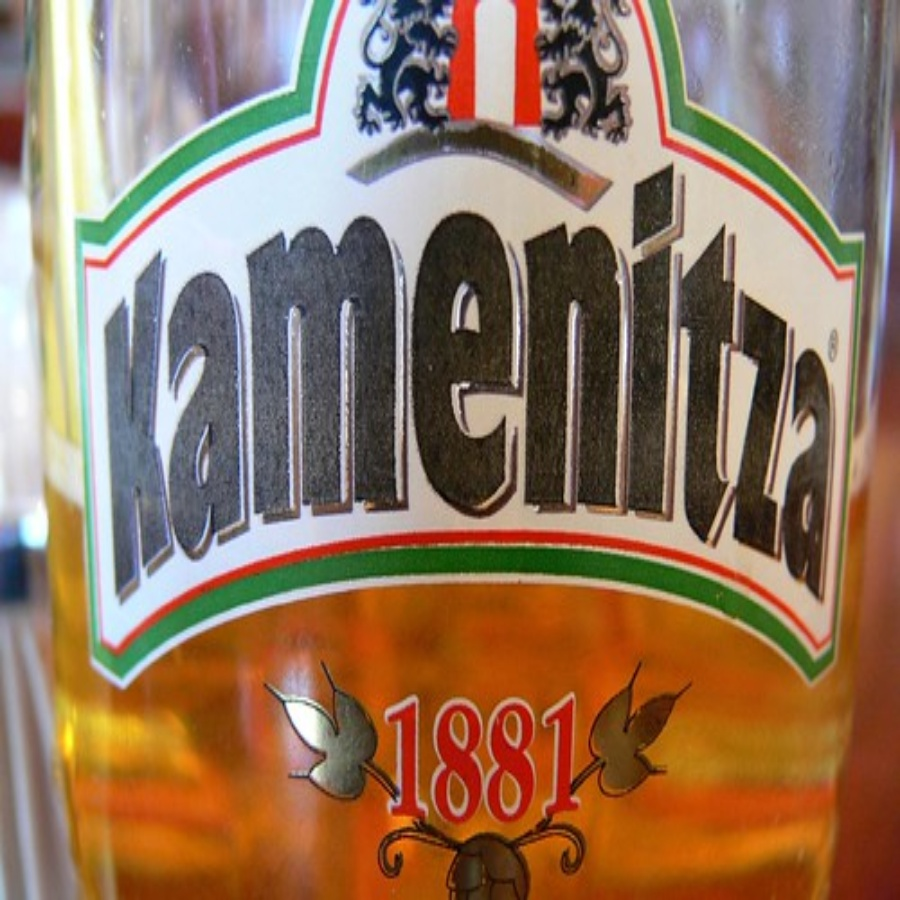beer: (34, 1, 853, 900)
